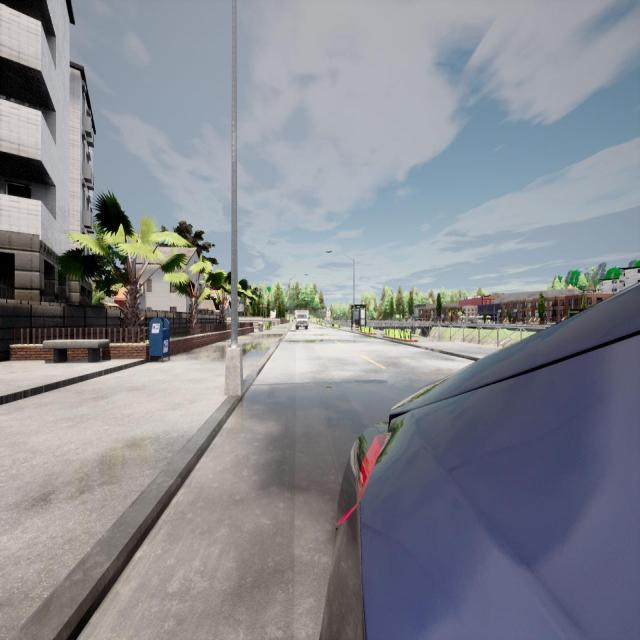Vehicle: (322, 281, 640, 640), (294, 310, 310, 330)
